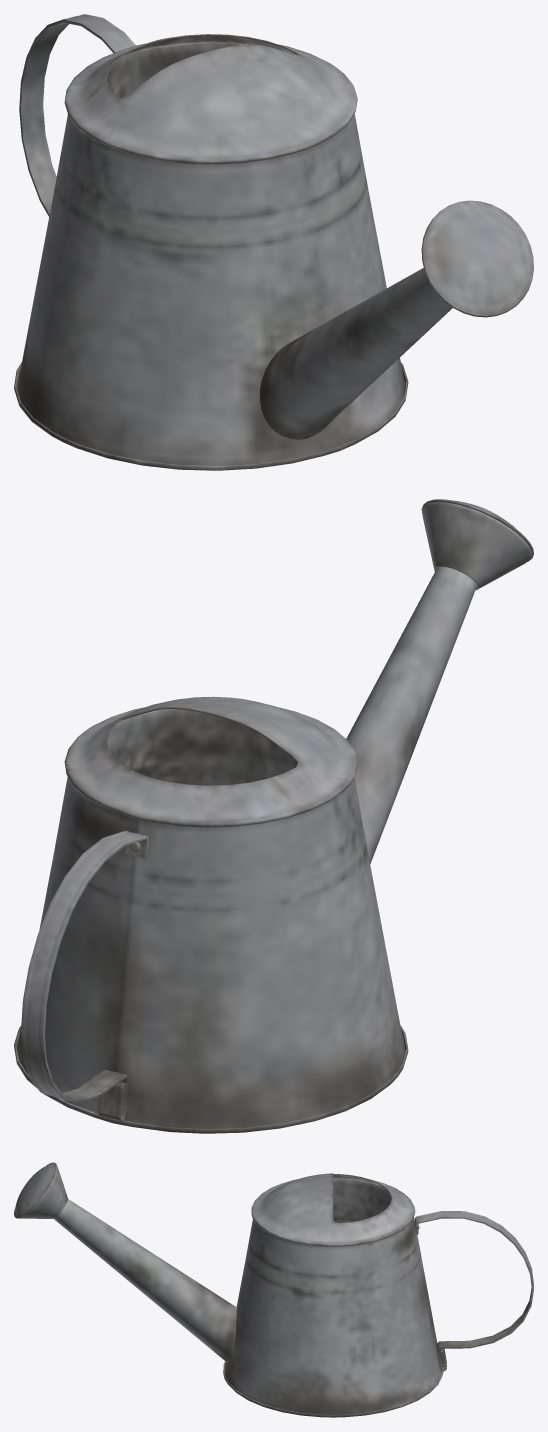
The model's file is watering_can.glb.
3 renders of one model, top to bottom at view 1: azimuth 30°, elevation 25°; view 2: azimuth 150°, elevation 25°; view 3: azimuth 270°, elevation 25°, orthographic. The views are drawn at different scales.
Visible parts, largest first — view 1: watering_can_metal_01; view 2: watering_can_metal_01; view 3: watering_can_metal_01.
Part boxes in pixels (left/top/right/bottom): watering_can_metal_01: left=14, top=14, right=533, bottom=470; watering_can_metal_01: left=14, top=499, right=533, bottom=1133; watering_can_metal_01: left=14, top=1162, right=533, bottom=1417.
Bounding box in the file's own units: 0.191 × 0.1968 × 0.4523.
1 material, 1 textured.
